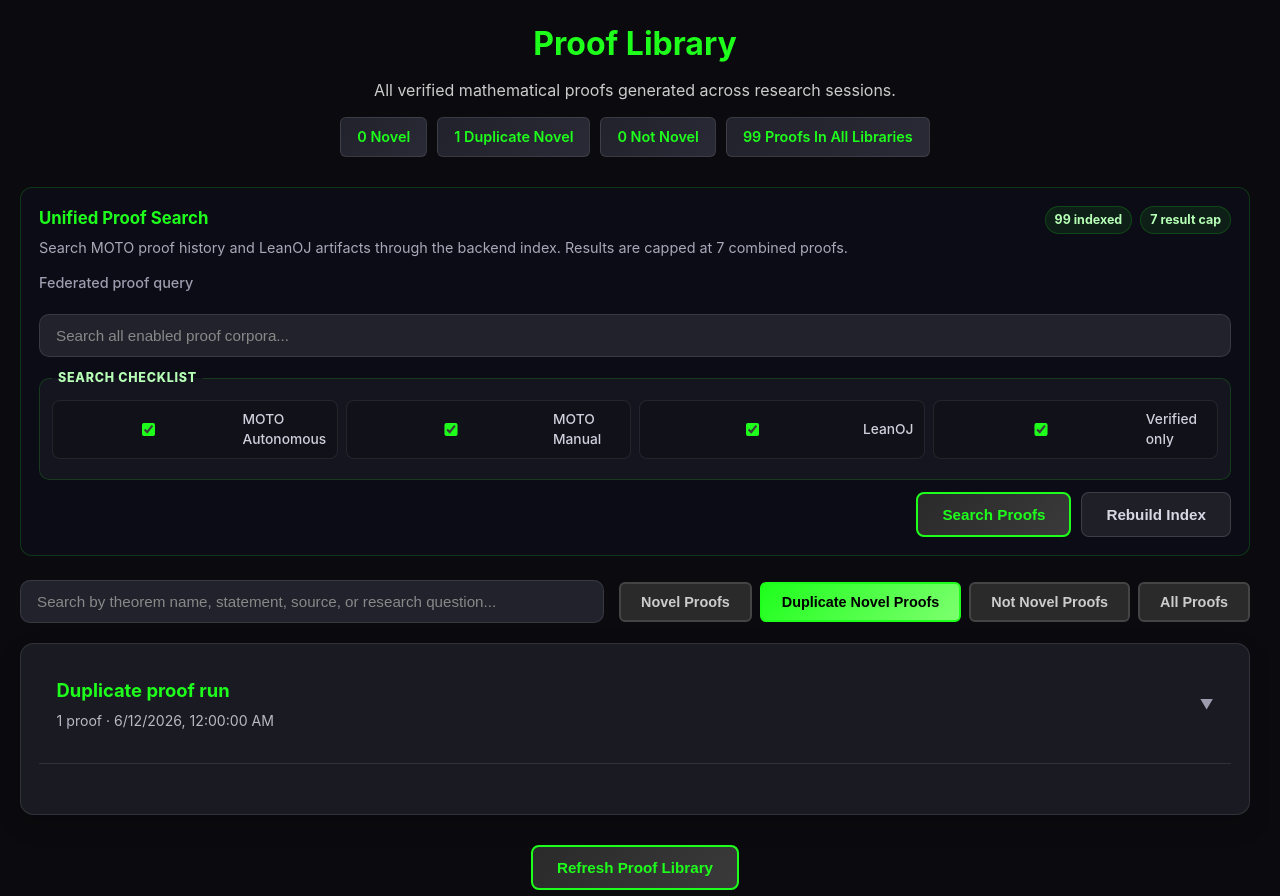
renders duplicate novel proof badge
Expected: the text "DuplicateNovel.Helper" is not shown
Step 1. Click the button "Duplicate proof run 1 proof · 6/12/2026, 12:00:00 AM ▼" → (143, 690), box [39,662,1231,747]
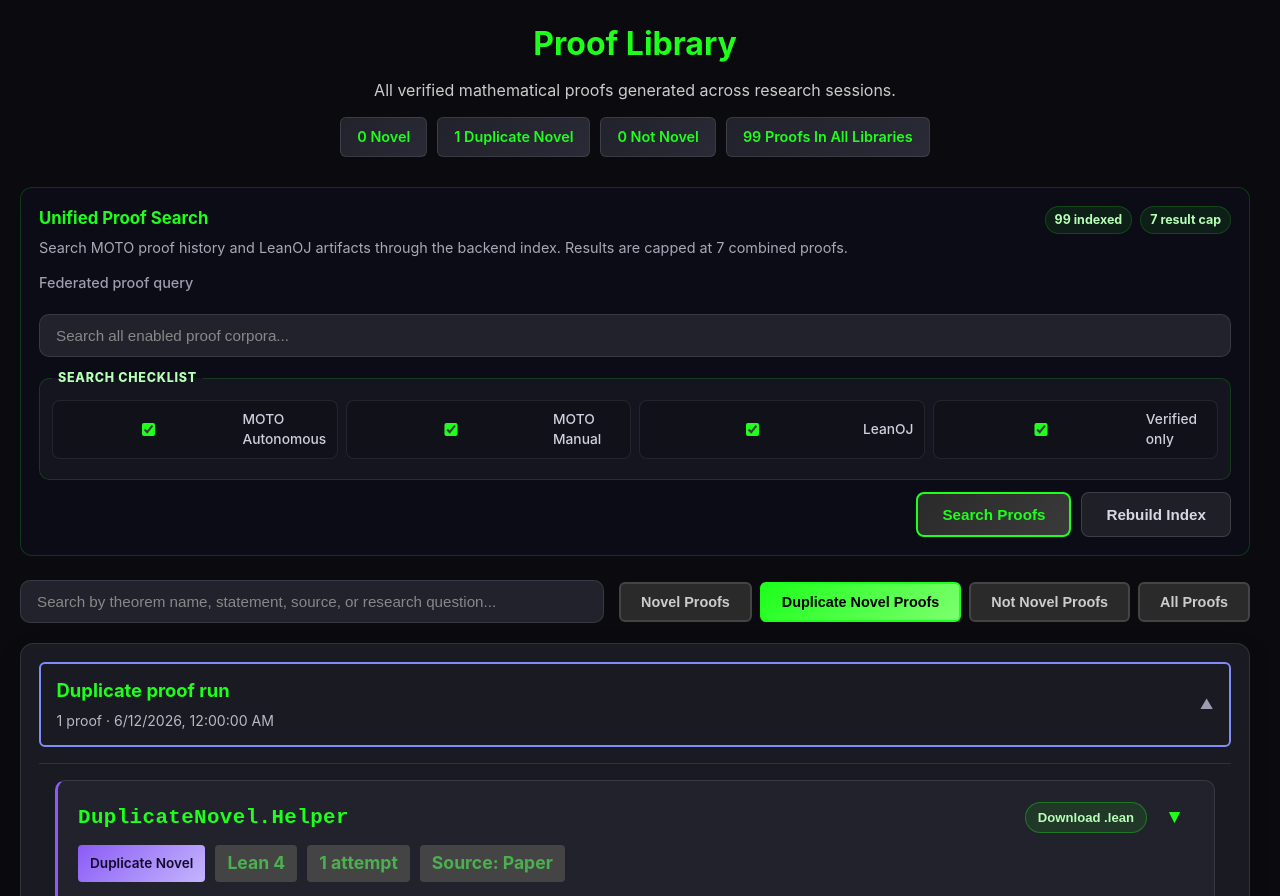
Expected: the heading "DuplicateNovel.Helper" is shown, [78,806,349,829]
Expected: the text "Duplicate Novel" is shown, [78,845,205,882]
